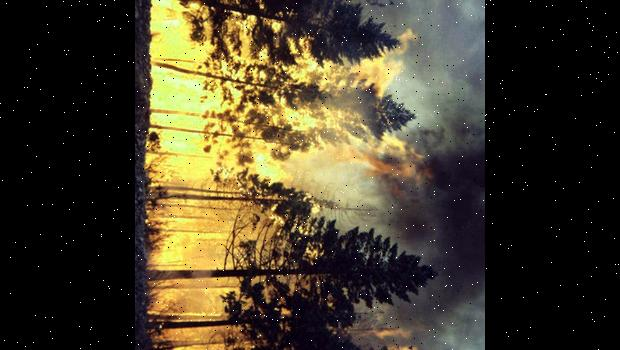fire: (135, 0, 419, 178), (136, 184, 299, 350)
